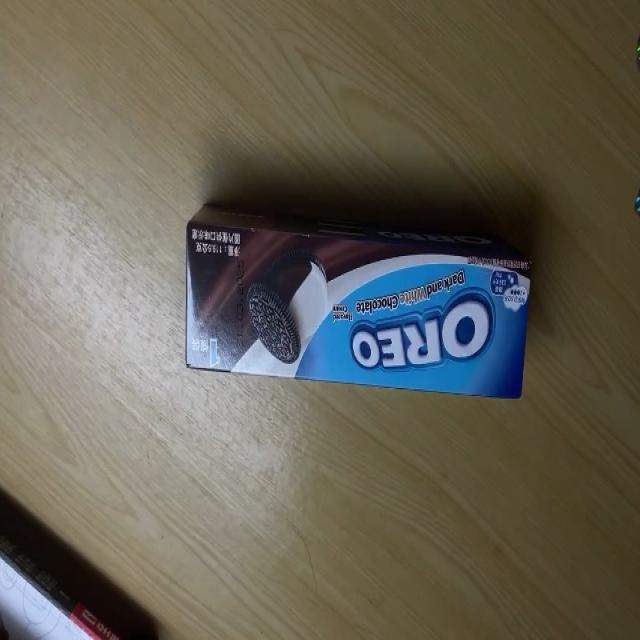Oreo: (186, 202, 530, 404)
